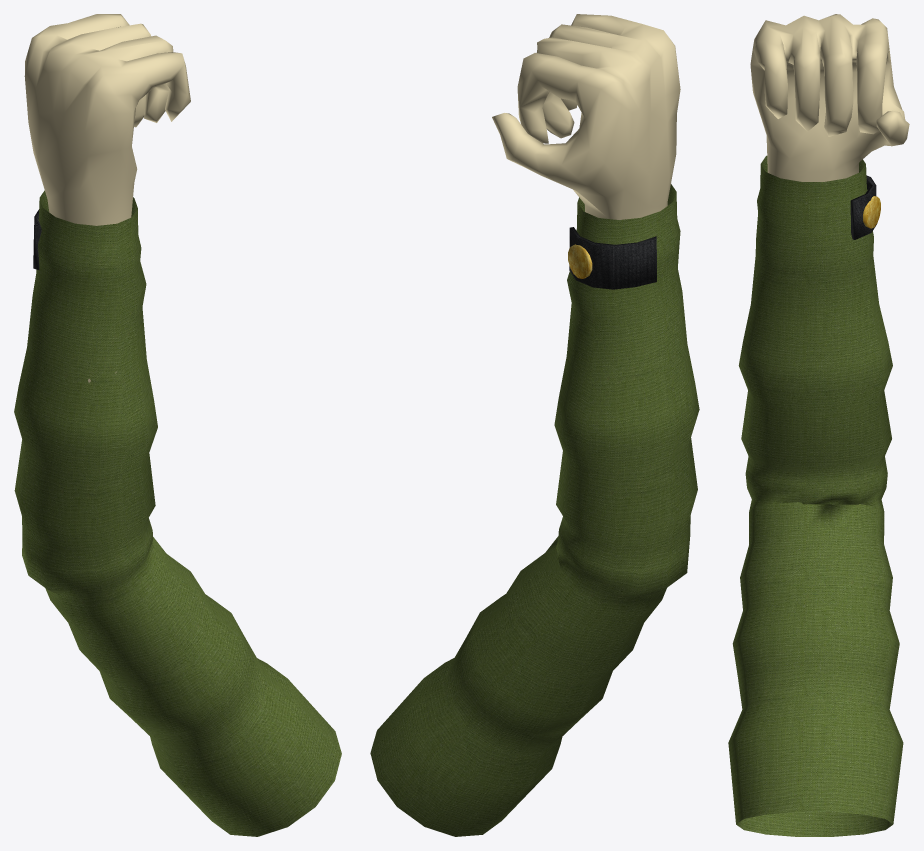
Rendered from FirstPersonHandv1.1.fbx.
The picture shows the model from 3 angles, left to right: view 1: azimuth 30°, elevation 25°; view 2: azimuth 150°, elevation 25°; view 3: azimuth 270°, elevation 25°; orthographic projection. The views are drawn at different scales.
Parts seen in each view (by area): view 1: Cylinder, Cube.000; view 2: Cylinder, Cube.000, Cylinder.001, Cylinder.002; view 3: Cylinder, Cube.000, Cylinder.001, Cylinder.002.
Part boxes in pixels (bbox=[...]): Cylinder: bbox=[14, 190, 341, 836]; Cube.000: bbox=[24, 14, 190, 382]; Cylinder: bbox=[370, 184, 699, 836]; Cube.000: bbox=[492, 14, 680, 219]; Cylinder.001: bbox=[569, 227, 656, 289]; Cylinder.002: bbox=[568, 244, 592, 278]; Cylinder: bbox=[728, 155, 903, 836]; Cube.000: bbox=[750, 14, 909, 181]; Cylinder.001: bbox=[850, 175, 876, 239]; Cylinder.002: bbox=[863, 196, 880, 228].
Size of the model in its own units: 1.23 by 3.23 by 0.7009.
